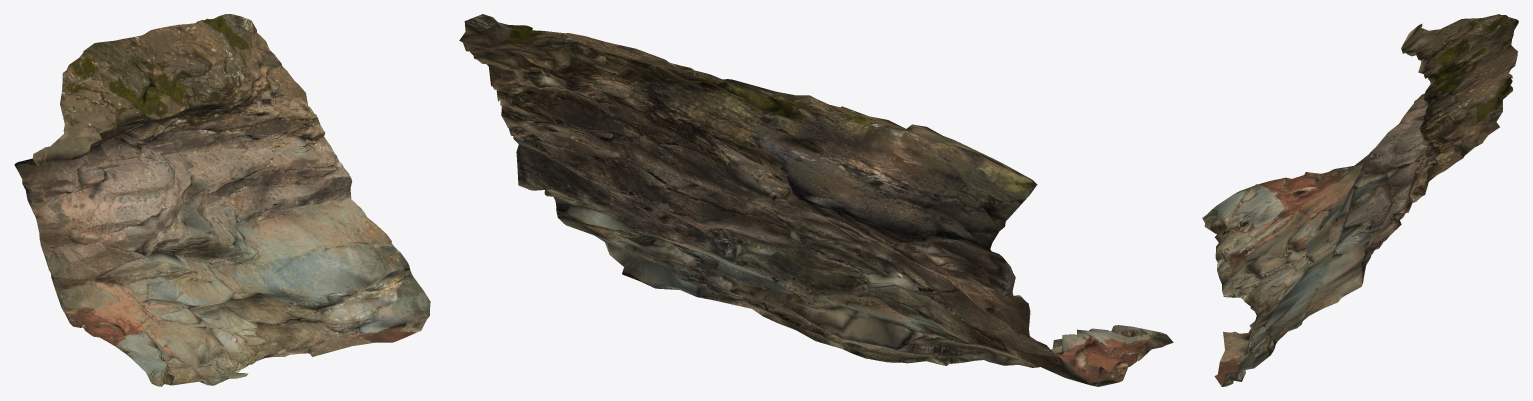
Rendered from talud_roca_01.glb.
3 renders of one model, left to right at view 1: azimuth 30°, elevation 25°; view 2: azimuth 150°, elevation 25°; view 3: azimuth 270°, elevation 25°, orthographic. The views are drawn at different scales.
Parts seen in each view (by area): view 1: rock_face_01; view 2: rock_face_01; view 3: rock_face_01.
Boxes of the visible parts, bbox=[...] form: rock_face_01: bbox=[14, 14, 430, 386]; rock_face_01: bbox=[459, 14, 1173, 386]; rock_face_01: bbox=[1202, 14, 1518, 386].
Bounding box in the file's own units: 4.94 × 3.56 × 3.82.
1 material, 1 textured.
